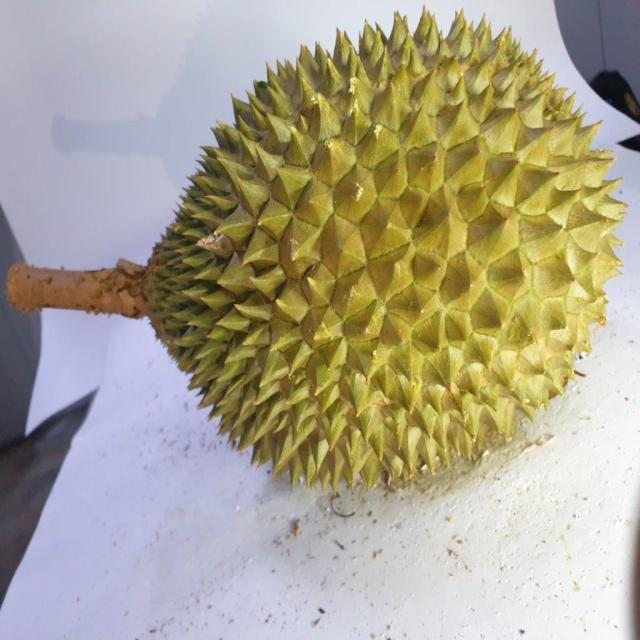immature: (145, 4, 628, 498)
